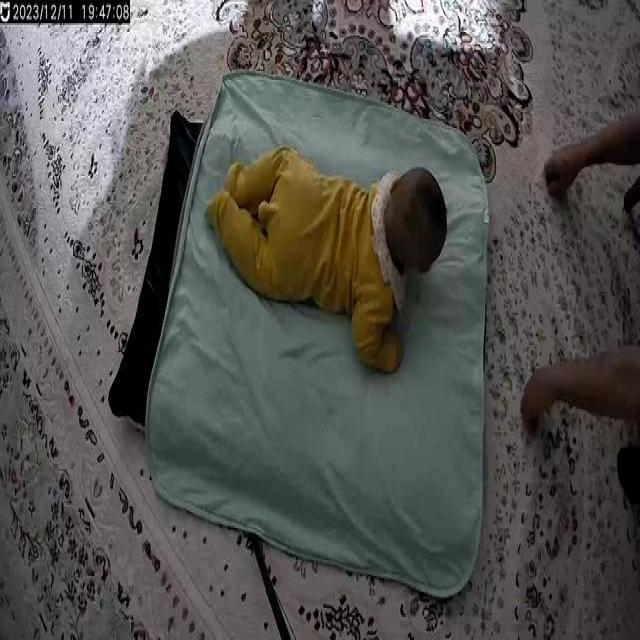baby: (204, 146, 451, 378)
